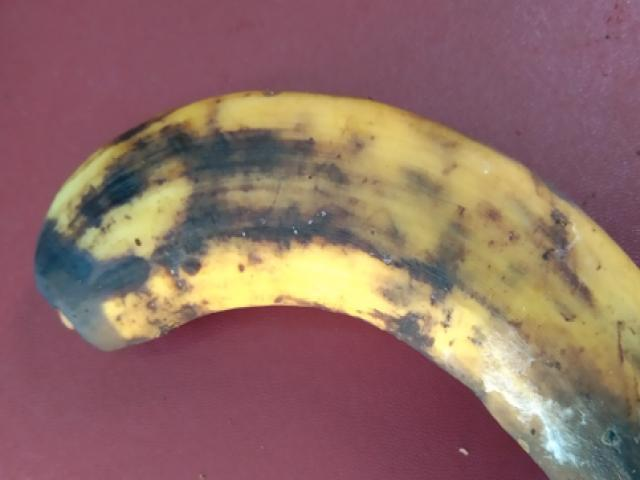rotten: (18, 71, 639, 479)
